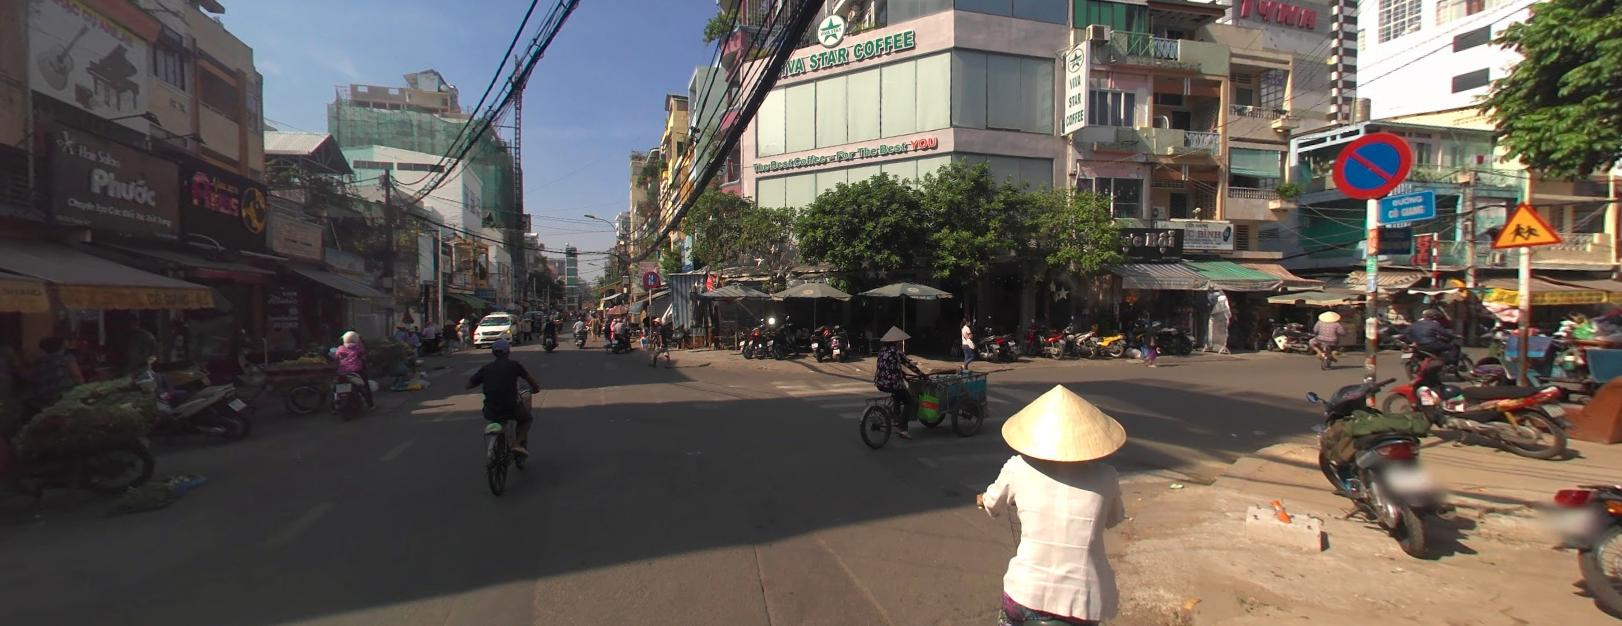Cam dung va do: (1332, 129, 1413, 198), (641, 270, 659, 286)
Nguy hiem: (1486, 200, 1563, 247)
